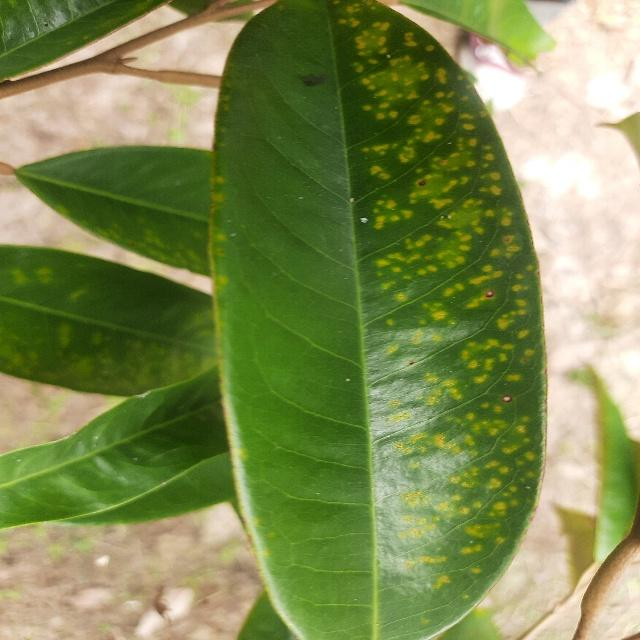Leaf Spot: (197, 0, 565, 640)
